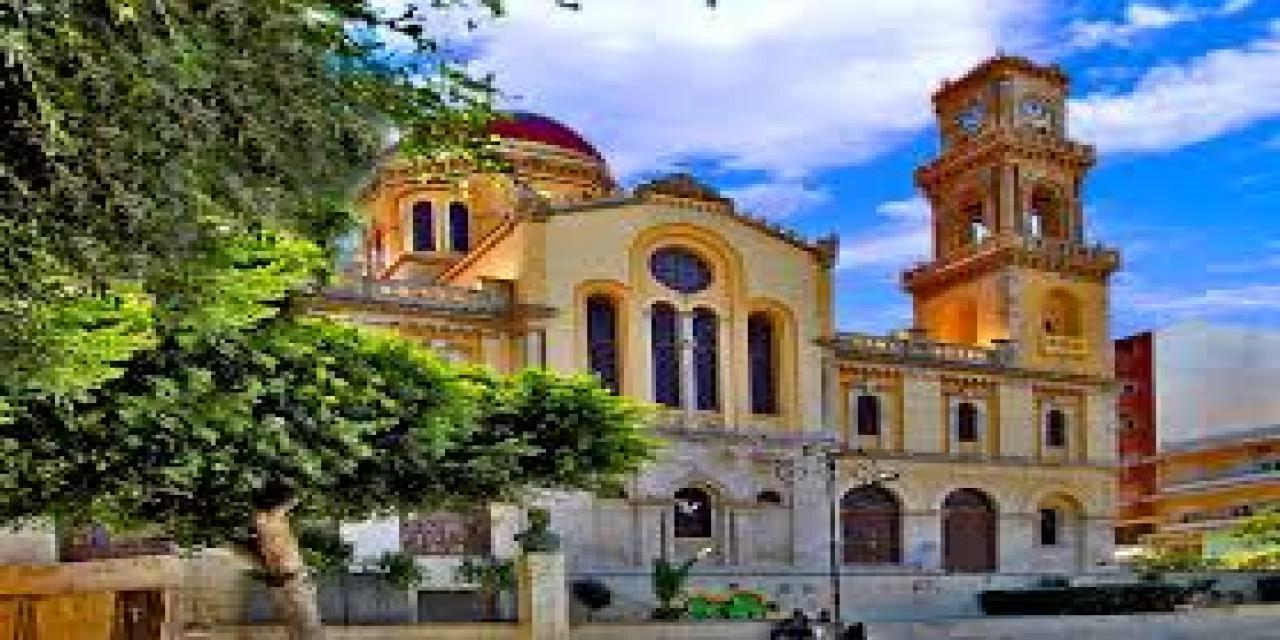Agios Minas: (257, 47, 1121, 567)
